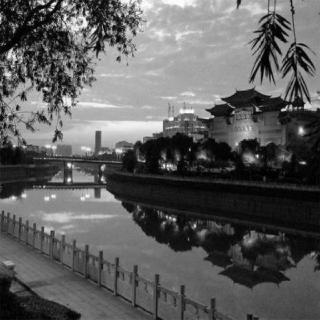other: (90, 115, 162, 141)
